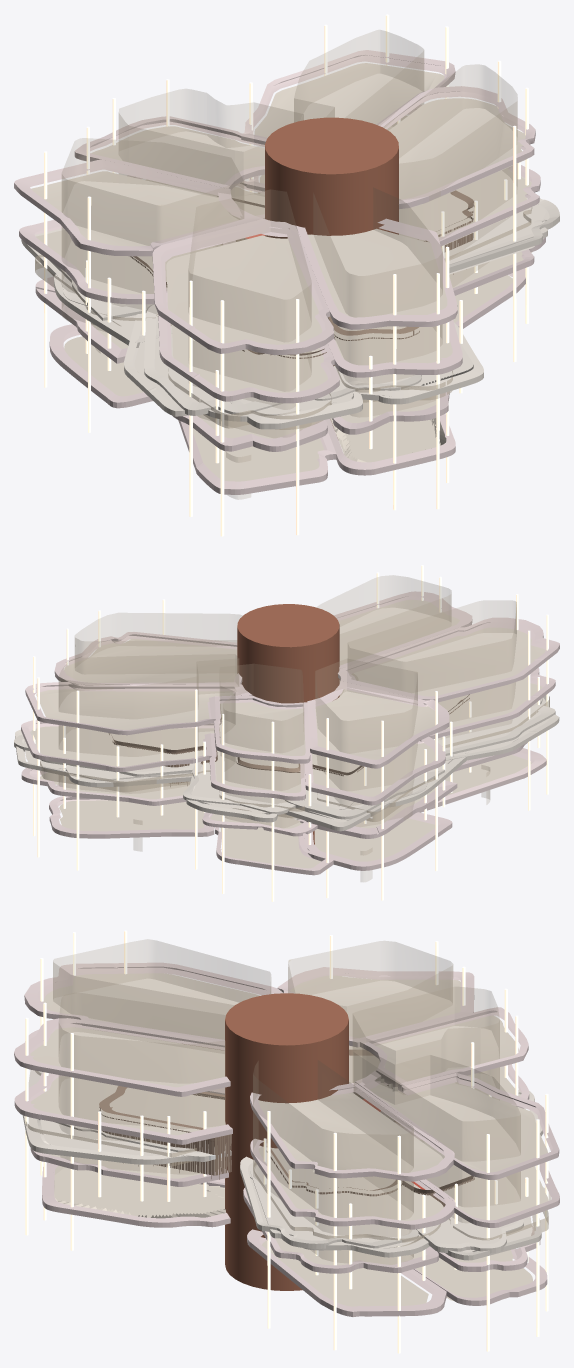
3 renders of one model, top to bottom at view 1: azimuth 30°, elevation 25°; view 2: azimuth 150°, elevation 25°; view 3: azimuth 270°, elevation 25°, orthographic. The views are drawn at different scales.
Parts seen in each view (by area): view 1: Plane001; view 2: Plane001; view 3: Plane001.
Boxes of the visible parts, x1=… form: Plane001: x1=14, y1=14, x2=559, y2=536; Plane001: x1=14, y1=565, x2=559, y2=901; Plane001: x1=14, y1=930, x2=559, y2=1353.
Size of the model in its own units: 440738 by 216962 by 437117.
